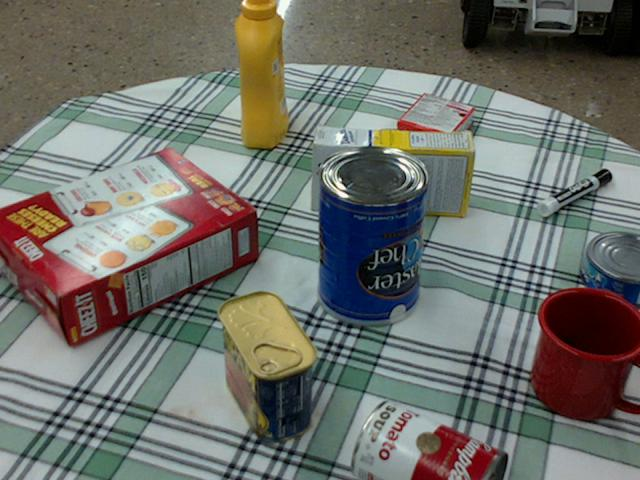cracker_box: (0, 149, 254, 344)
gelatin_box: (395, 93, 473, 153)
large_marker: (536, 169, 611, 215)
master_chef_can: (317, 145, 430, 324)
mug: (530, 287, 639, 419)
mustard_bottle: (234, 0, 286, 147)
potted_meat_can: (217, 290, 317, 441)
sugar_box: (310, 127, 474, 216)
tomato_soup_can: (352, 401, 508, 479)
tuna_fish_can: (581, 232, 639, 306)
